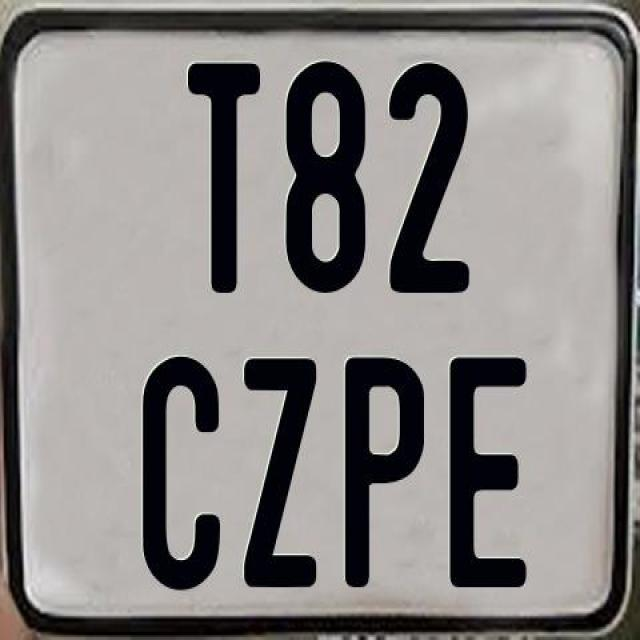2: (390, 58, 470, 292)
8: (282, 59, 369, 291)
C: (138, 354, 218, 590)
E: (448, 355, 530, 595)
P: (342, 357, 424, 587)
T: (188, 59, 264, 290)
Z: (240, 356, 316, 594)
